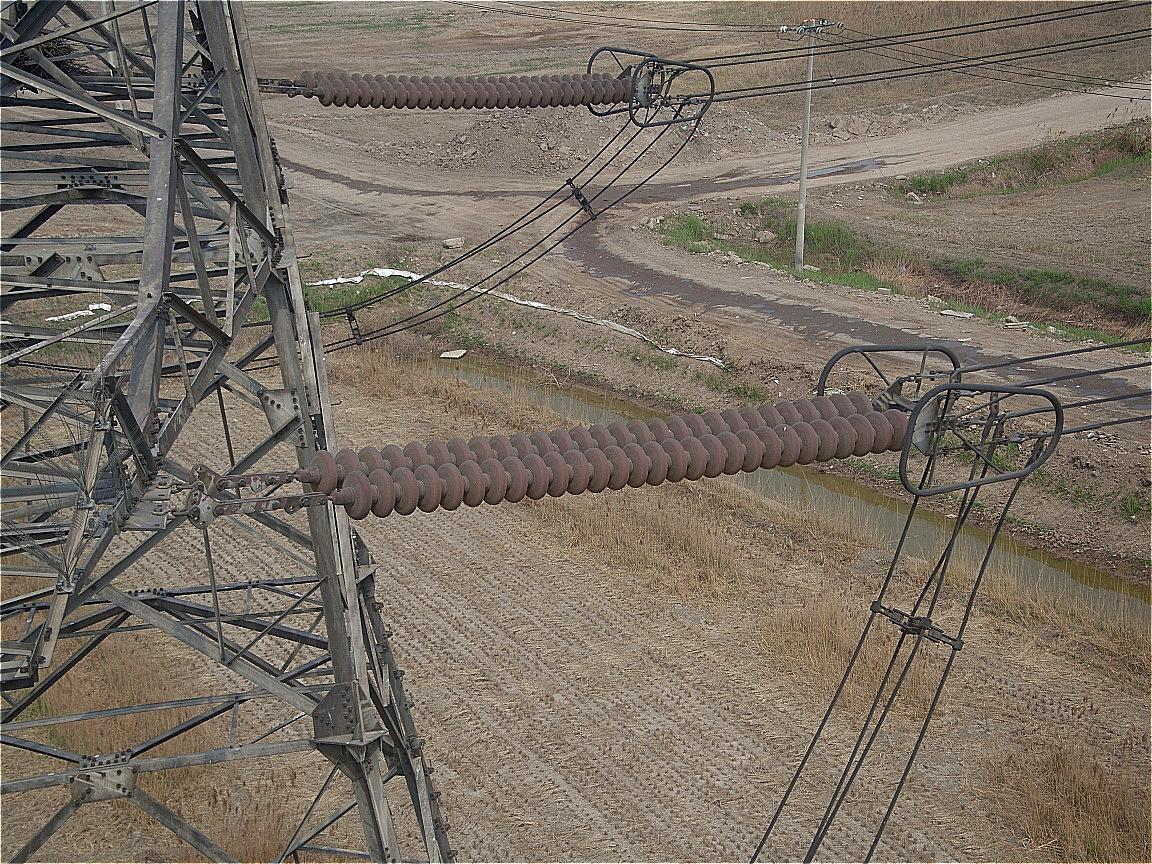insultor1: (308, 387, 913, 520), (298, 68, 635, 108)
